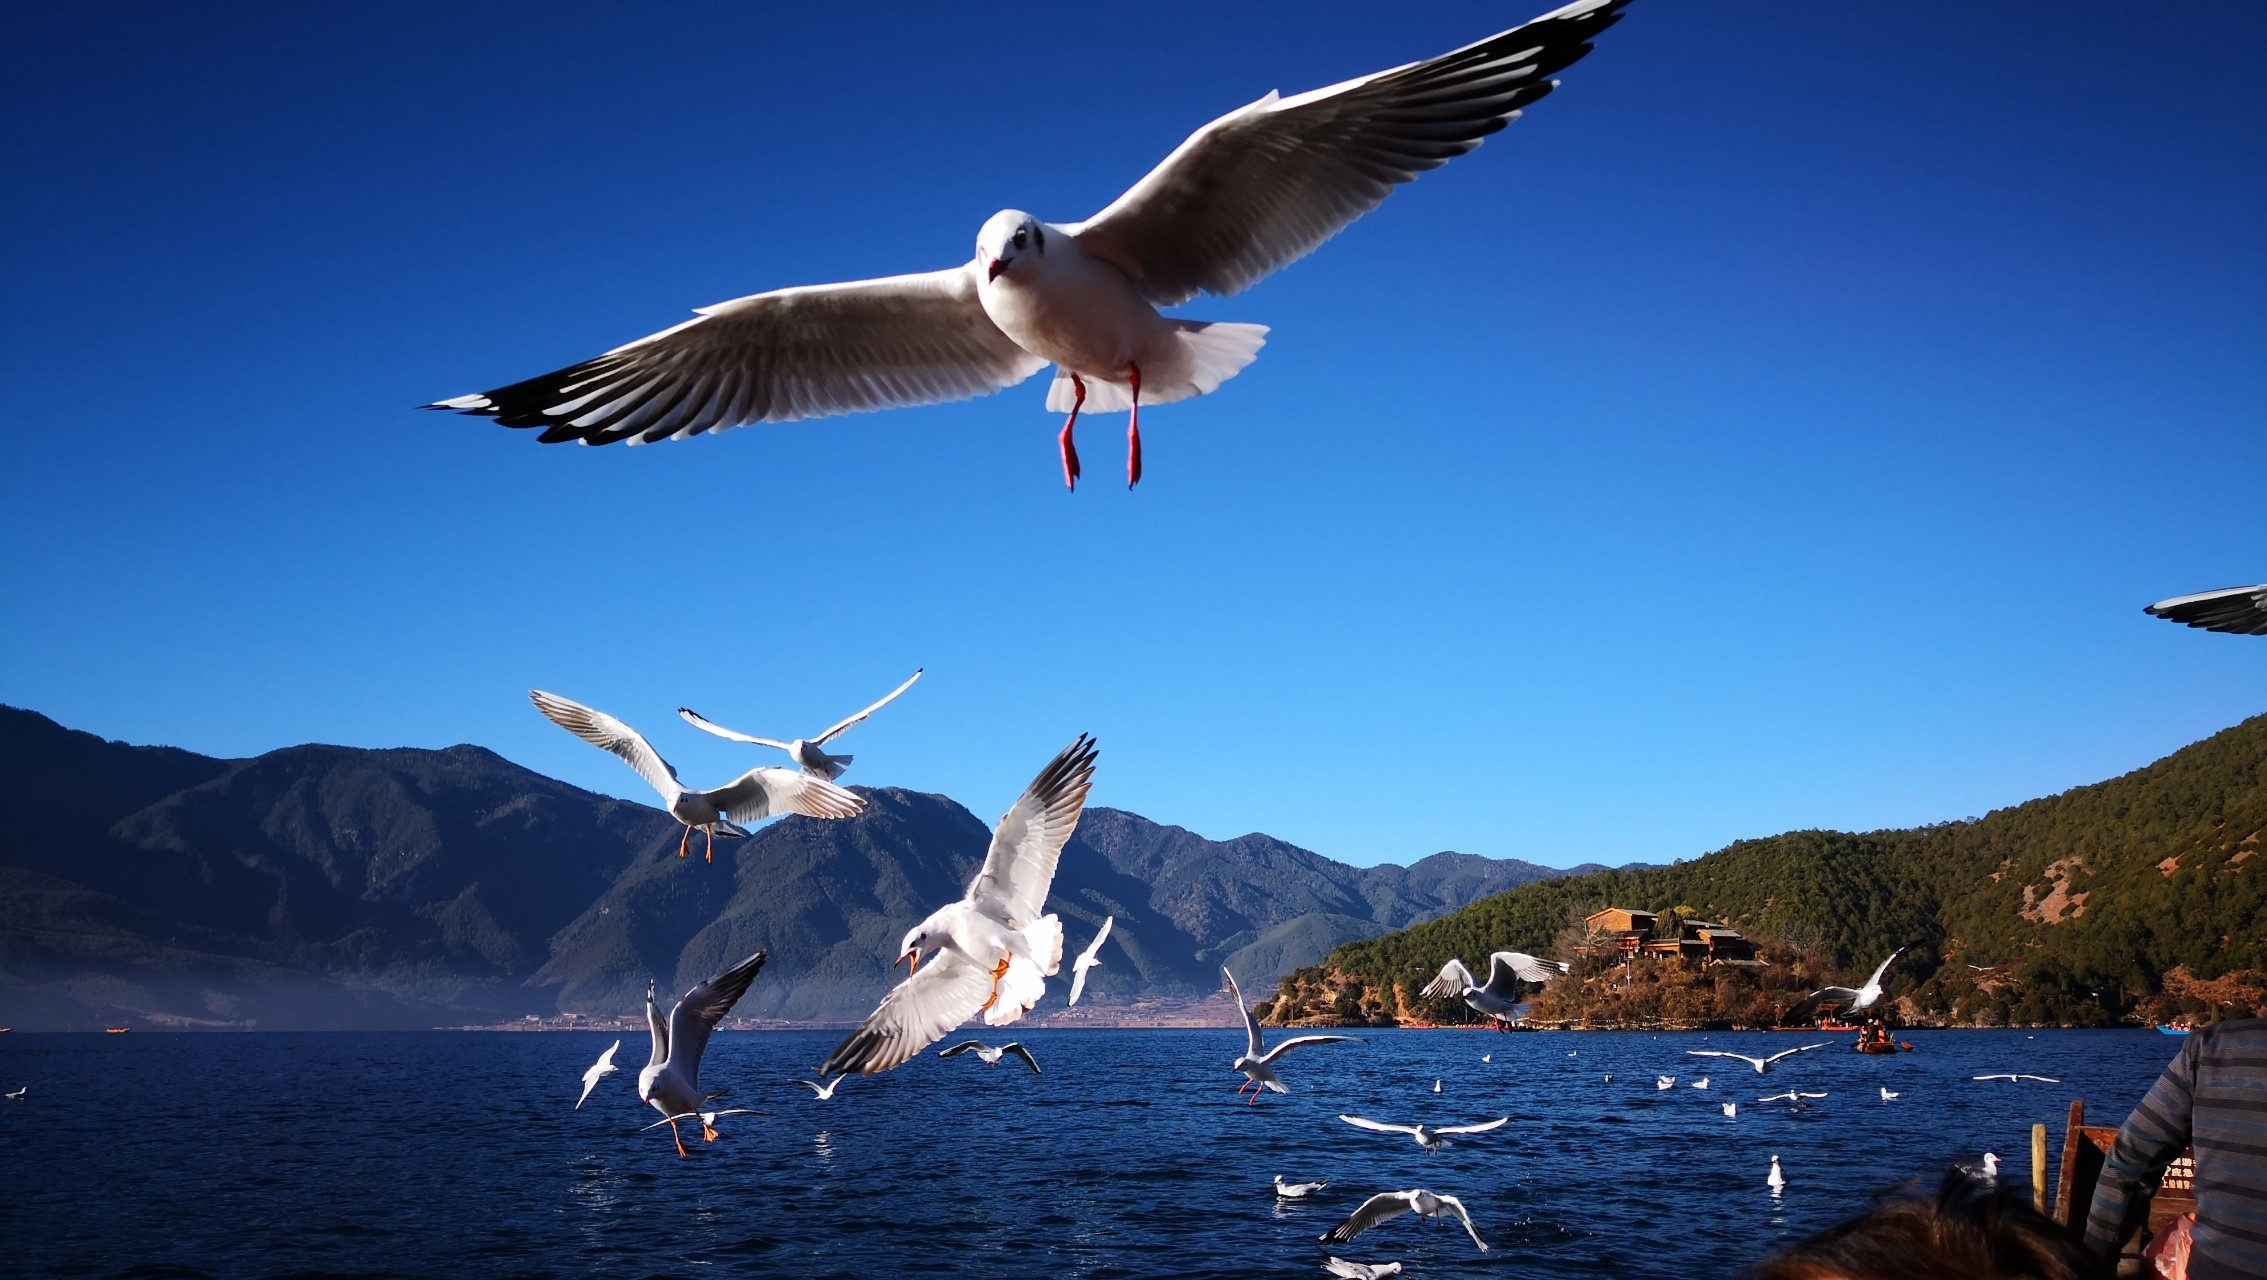bird: (416, 2, 1641, 497), (814, 733, 1102, 1101), (543, 688, 866, 856), (627, 951, 768, 1159), (685, 666, 926, 775), (1208, 969, 1344, 1104), (1334, 1187, 1496, 1246), (1808, 939, 1912, 1023), (1341, 1110, 1512, 1159), (1682, 1032, 1836, 1082), (567, 1036, 626, 1113), (1970, 1057, 2068, 1088)
